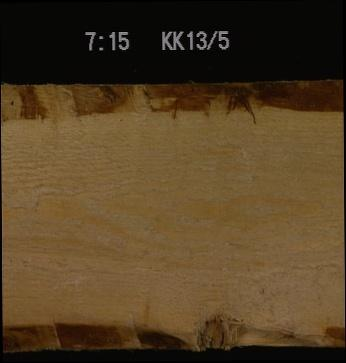wave: (0, 81, 343, 120), (2, 309, 345, 348)
